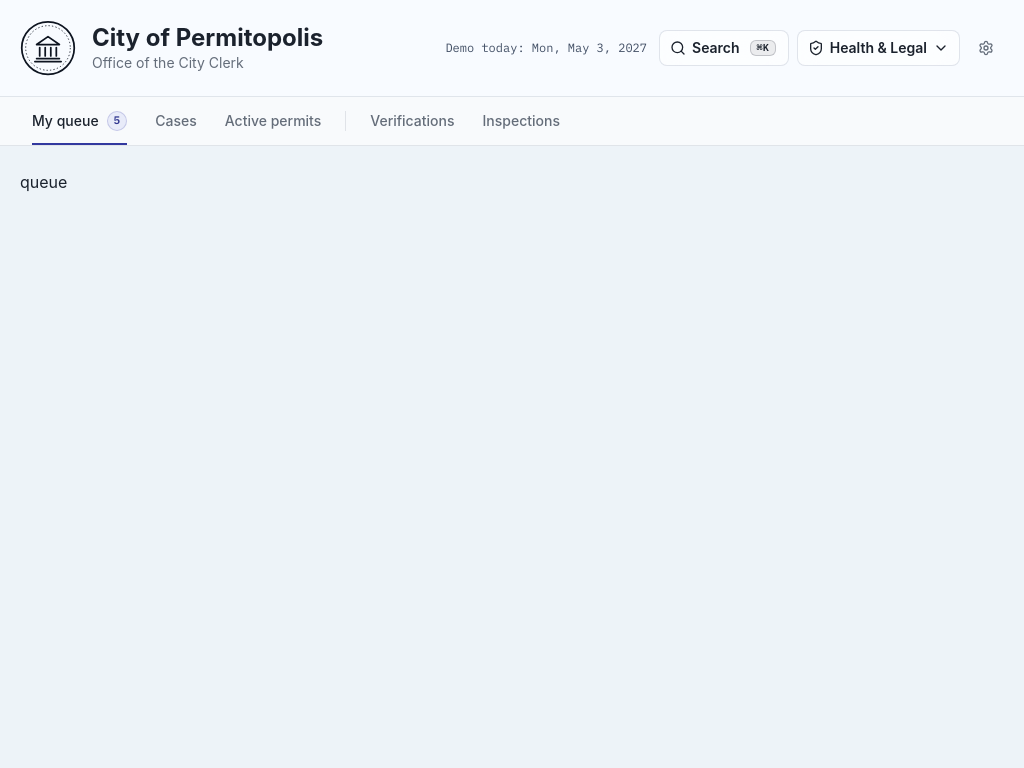
Test: the app header › the user menu lists the three city officials, then the applicants, with the current one checked
Click the button with aria-label "Switch user: Health & Legal".
click(878, 48)  # box [797,30,960,66]
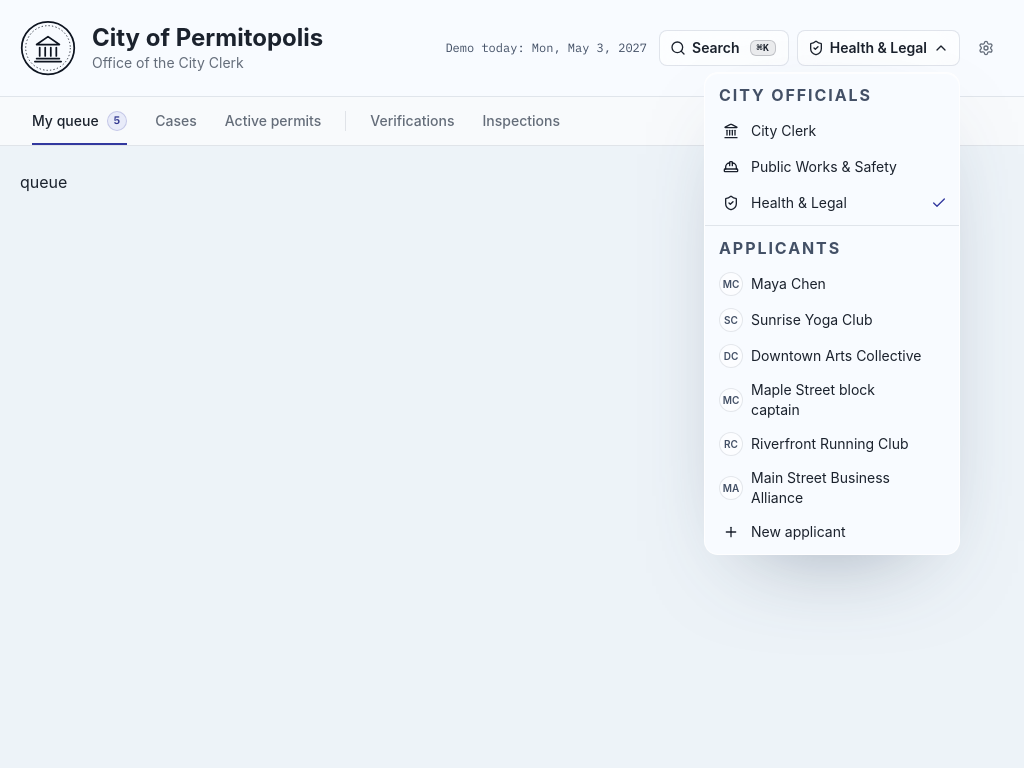
Expected: the number of menu items is 10
Expected: the menu item "Health & Legal" is checked, [723,194,947,211]
